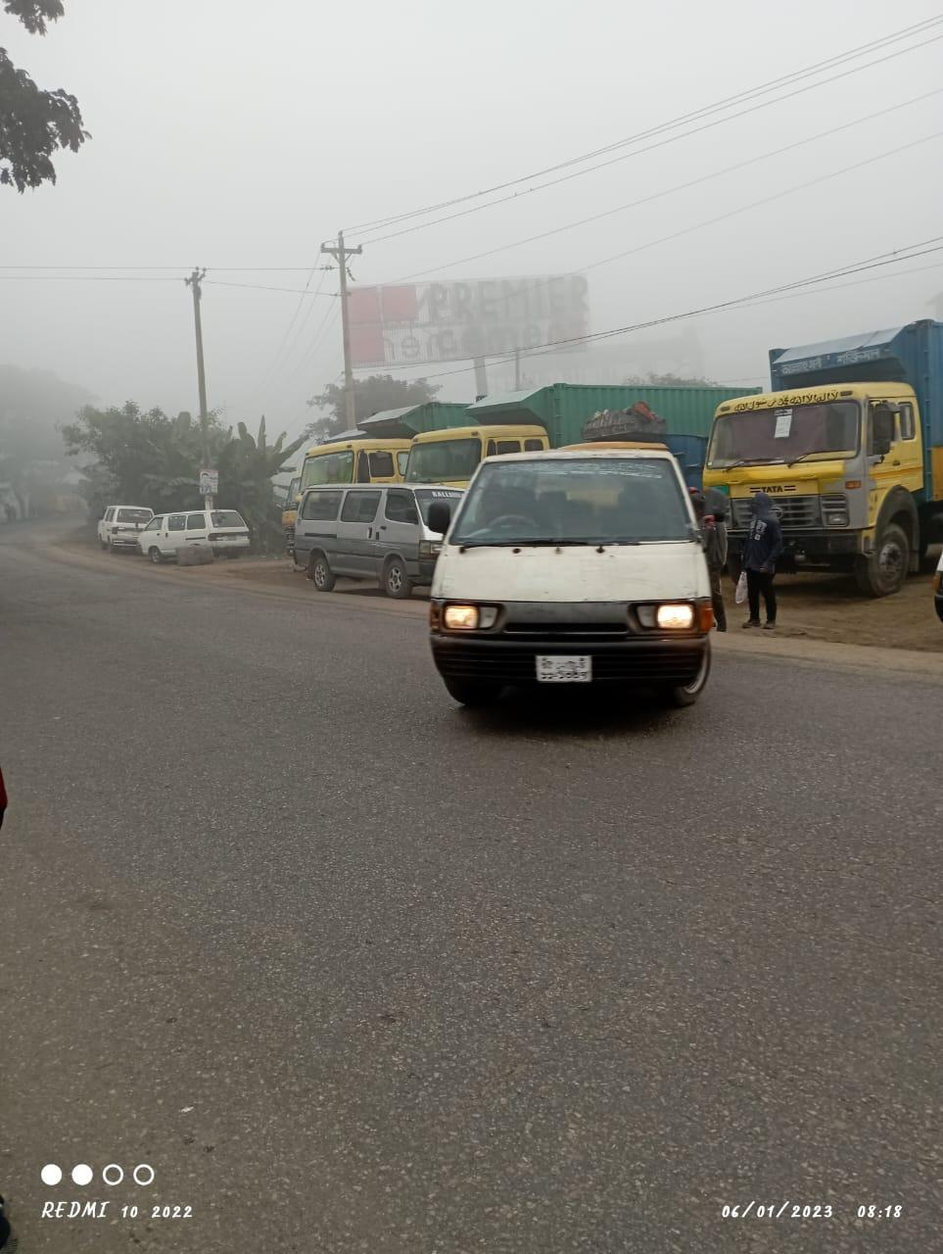Car: (420, 434, 733, 716), (283, 471, 437, 597), (139, 506, 248, 564), (83, 494, 154, 561)
Truck: (707, 298, 943, 603)
